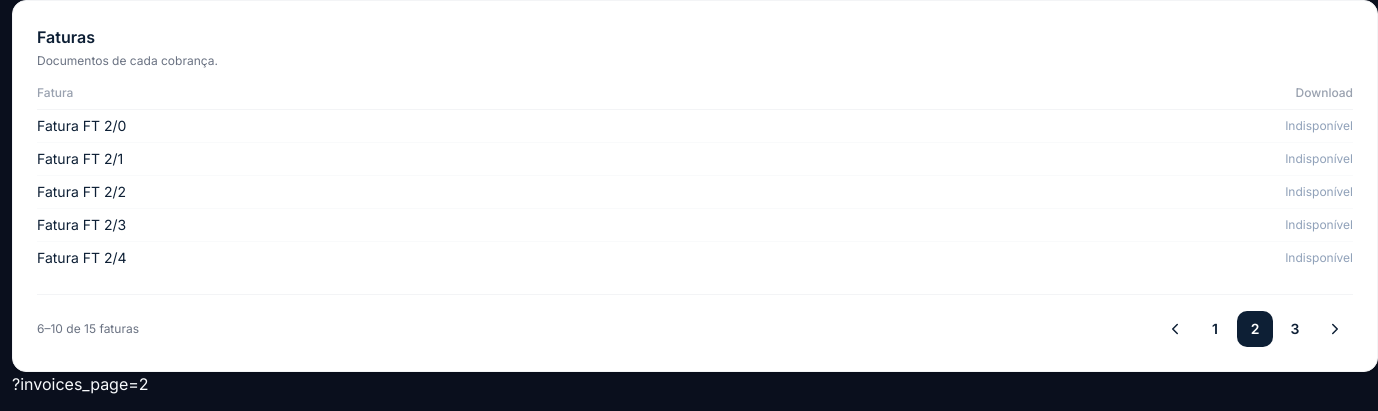
it: Faturas: página no endereço › o padrão não escreve parâmetros no endereço
Expected: the text "Fatura FT 2/0" is shown, [37,117,126,134]
Click the button named "Página 1": (1215, 329) [1197,311,1233,347]
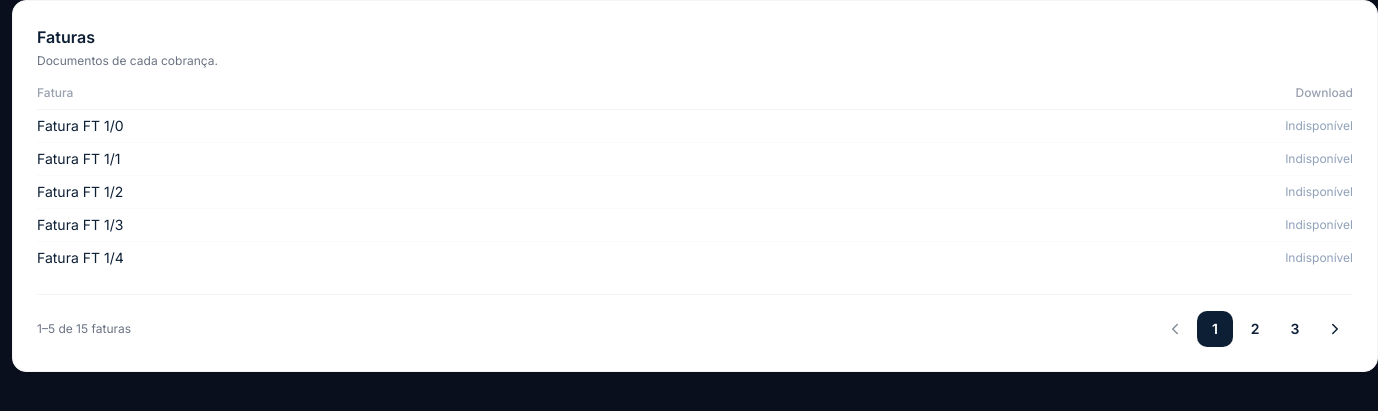
Expected: the text "Fatura FT 1/0" is shown, [37,117,124,134]
